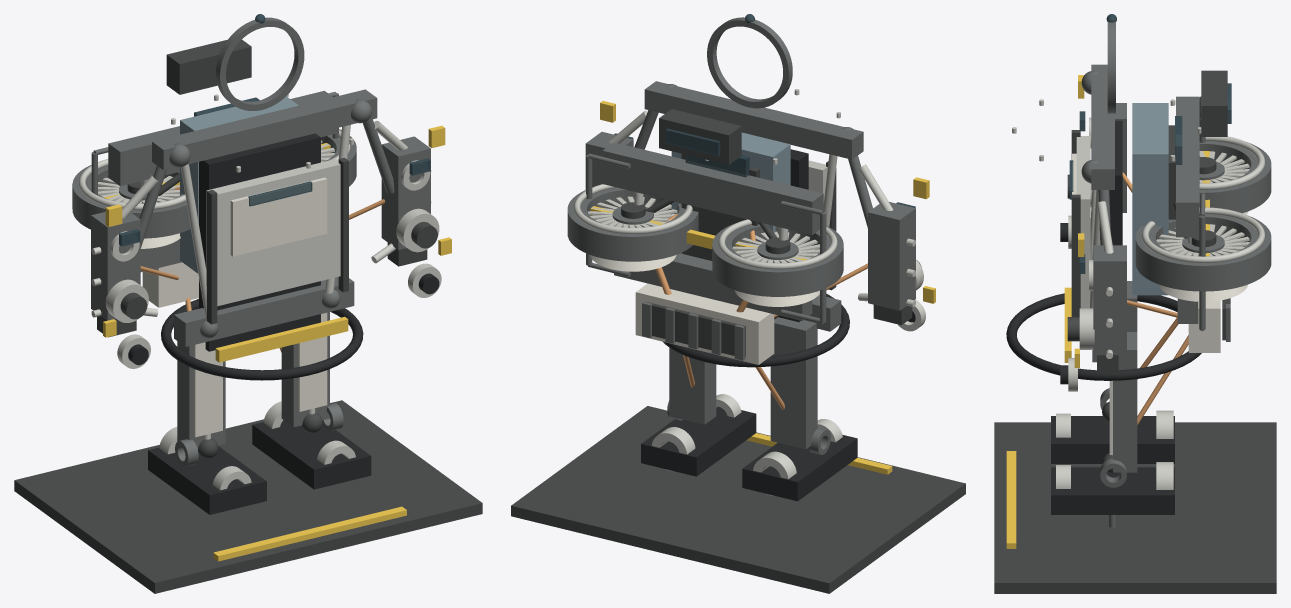
Rendered from iron_man_flight_system_concept_assembly.glb.
3 views of the same model, side by side, from view 1: azimuth 30°, elevation 25°; view 2: azimuth 150°, elevation 25°; view 3: azimuth 270°, elevation 25° (orthographic). The views are drawn at different scales.
Visible parts, largest first — view 1: =>[0:1:1:5], =>[0:1:1:16], =>[0:1:1:22], =>[0:1:1:14], =>[0:1:1:18], =>[0:1:1:24], =>[0:1:1:387], =>[0:1:1:371], =>[0:1:1:26], =>[0:1:1:404], =>[0:1:1:338], =>[0:1:1:310] (+23 smaller); view 2: =>[0:1:1:5], =>[0:1:1:55], =>[0:1:1:22], =>[0:1:1:367], =>[0:1:1:60], =>[0:1:1:177], =>[0:1:1:310], =>[0:1:1:387], =>[0:1:1:400], =>[0:1:1:371], =>[0:1:1:404], =>[0:1:1:57] (+21 smaller); view 3: =>[0:1:1:5], =>[0:1:1:177], =>[0:1:1:28], =>[0:1:1:387], =>[0:1:1:371], =>[0:1:1:338], =>[0:1:1:55], =>[0:1:1:26], =>[0:1:1:383], =>[0:1:1:60], =>[0:1:1:22], =>[0:1:1:404] (+23 smaller).
Boxes of the visible parts, x1=… form: =>[0:1:1:5]: x1=14, y1=400, x2=482, y2=593; =>[0:1:1:16]: x1=206, y1=159, x2=340, y2=306; =>[0:1:1:22]: x1=152, y1=89, x2=377, y2=170; =>[0:1:1:14]: x1=199, y1=133, x2=320, y2=351; =>[0:1:1:18]: x1=230, y1=177, x2=327, y2=256; =>[0:1:1:24]: x1=174, y1=277, x2=354, y2=346; =>[0:1:1:387]: x1=252, y1=420, x2=371, y2=489; =>[0:1:1:371]: x1=148, y1=446, x2=266, y2=514; =>[0:1:1:26]: x1=161, y1=299, x2=363, y2=380; =>[0:1:1:404]: x1=166, y1=40, x2=251, y2=94; =>[0:1:1:338]: x1=381, y1=136, x2=430, y2=249; =>[0:1:1:310]: x1=91, y1=207, x2=140, y2=320; =>[0:1:1:5]: x1=511, y1=406, x2=965, y2=593; =>[0:1:1:55]: x1=602, y1=142, x2=823, y2=234; =>[0:1:1:22]: x1=644, y1=81, x2=863, y2=159; =>[0:1:1:367]: x1=770, y1=317, x2=817, y2=449; =>[0:1:1:60]: x1=712, y1=223, x2=843, y2=296; =>[0:1:1:177]: x1=567, y1=187, x2=698, y2=261; =>[0:1:1:310]: x1=868, y1=202, x2=915, y2=310; =>[0:1:1:387]: x1=641, y1=406, x2=756, y2=476; =>[0:1:1:400]: x1=635, y1=283, x2=774, y2=364; =>[0:1:1:371]: x1=742, y1=434, x2=857, y2=501; =>[0:1:1:404]: x1=659, y1=109, x2=741, y2=164; =>[0:1:1:57]: x1=614, y1=253, x2=812, y2=320; =>[0:1:1:5]: x1=994, y1=422, x2=1276, y2=593; =>[0:1:1:177]: x1=1135, y1=214, x2=1271, y2=291; =>[0:1:1:28]: x1=1132, y1=103, x2=1168, y2=295; =>[0:1:1:387]: x1=1051, y1=467, x2=1174, y2=514; =>[0:1:1:371]: x1=1051, y1=416, x2=1174, y2=463; =>[0:1:1:338]: x1=1093, y1=245, x2=1126, y2=355; =>[0:1:1:55]: x1=1176, y1=96, x2=1199, y2=237; =>[0:1:1:26]: x1=1006, y1=293, x2=1201, y2=380; =>[0:1:1:383]: x1=1113, y1=332, x2=1137, y2=472; =>[0:1:1:60]: x1=1199, y1=140, x2=1271, y2=213; =>[0:1:1:22]: x1=1091, y1=64, x2=1114, y2=189; =>[0:1:1:404]: x1=1201, y1=70, x2=1227, y2=136.
Bounding box in the file's own units: 1.39 × 1.91 × 0.98.
